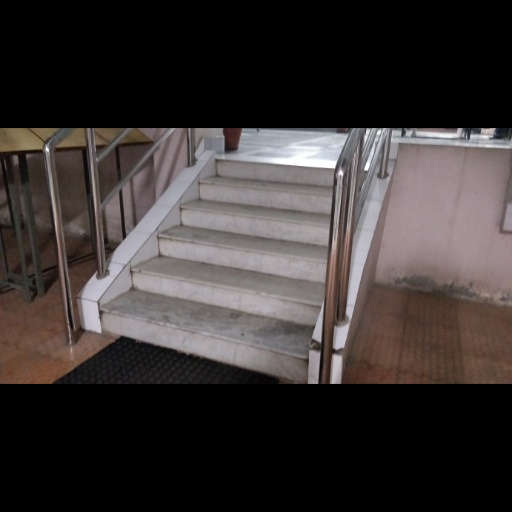Stairs: (101, 160, 333, 383)
